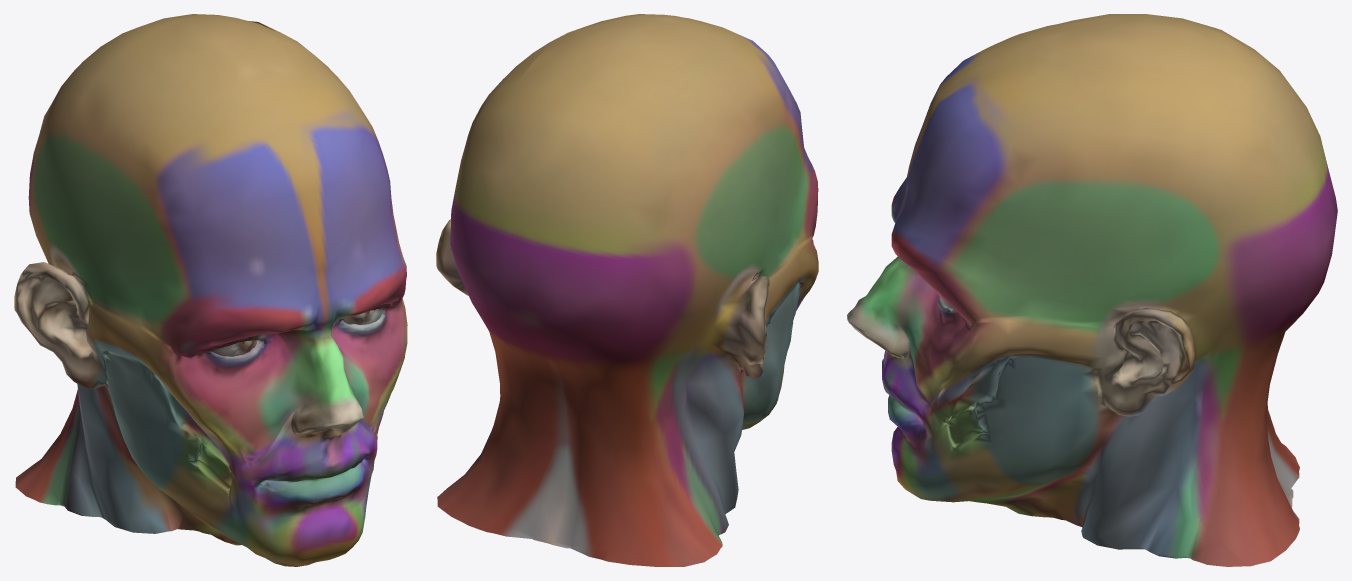
File: derived-anatomy-head.glb
The picture shows the model from 3 angles, left to right: view 1: azimuth 30°, elevation 25°; view 2: azimuth 150°, elevation 25°; view 3: azimuth 270°, elevation 25°; orthographic projection. The views are drawn at different scales.
Parts seen in each view (by area): view 1: derived-anatomy-head; view 2: derived-anatomy-head; view 3: derived-anatomy-head.
Boxes of the visible parts, <box> form: derived-anatomy-head: <box>14,14,407,566</box>; derived-anatomy-head: <box>436,14,818,566</box>; derived-anatomy-head: <box>847,14,1337,566</box>.
Size of the model in its own units: 0.1803 by 0.235 by 0.2225.
Materials: 1 (1 with a texture image).
